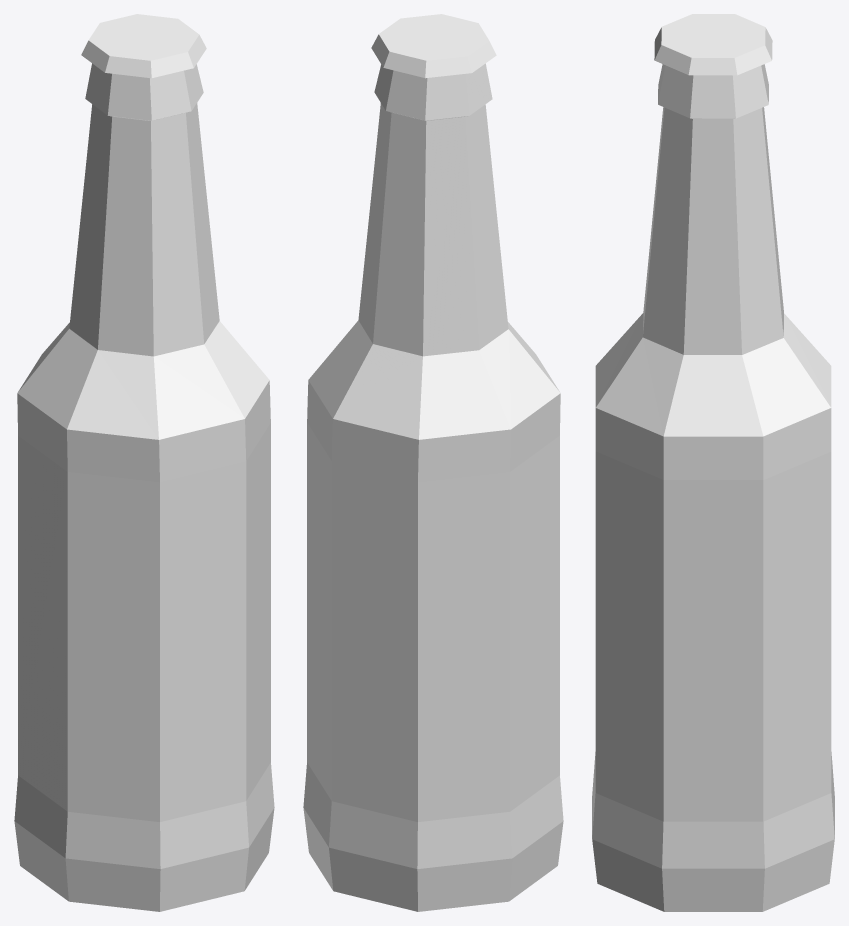
Rendered from Prop_Beer_Bottle_01.glb.
3 views of the same model, side by side, from view 1: azimuth 30°, elevation 25°; view 2: azimuth 150°, elevation 25°; view 3: azimuth 270°, elevation 25° (orthographic).
Visible parts, largest first — view 1: Prop_Beer_Bottle_01; view 2: Prop_Beer_Bottle_01; view 3: Prop_Beer_Bottle_01.
Part boxes in pixels (x1,y1,x2,y2): Prop_Beer_Bottle_01: [14, 14, 274, 911]; Prop_Beer_Bottle_01: [303, 14, 563, 911]; Prop_Beer_Bottle_01: [592, 14, 834, 911].
Size of the model in its own units: 0.09 by 0.34 by 0.09.
Materials: 1 (1 with a texture image).
